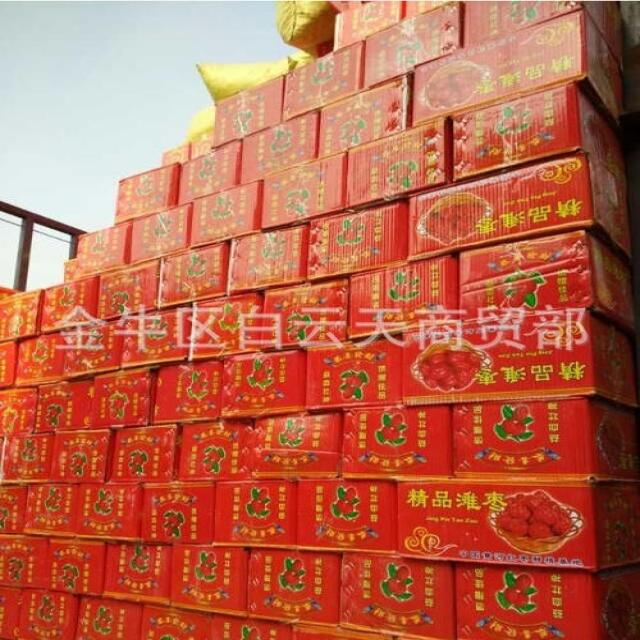box: (406, 153, 632, 264), (413, 9, 625, 127), (401, 310, 639, 413), (397, 477, 640, 569), (460, 230, 636, 339), (451, 83, 627, 183), (453, 397, 640, 483), (454, 562, 640, 640), (465, 1, 626, 70), (339, 551, 454, 640), (346, 118, 452, 212), (347, 257, 460, 342), (360, 1, 461, 92), (306, 200, 408, 285), (339, 405, 453, 481), (317, 72, 415, 159), (297, 477, 398, 555), (244, 548, 342, 627), (306, 336, 403, 415), (282, 39, 366, 122), (262, 151, 347, 231), (259, 278, 349, 352), (248, 411, 342, 479), (228, 223, 308, 298), (170, 545, 251, 619), (214, 479, 298, 550), (241, 110, 320, 185), (220, 351, 306, 418), (211, 75, 284, 150), (189, 292, 264, 363), (157, 242, 230, 310), (119, 305, 192, 370), (151, 360, 224, 425), (191, 181, 262, 247), (141, 481, 215, 544), (178, 420, 253, 482), (102, 542, 173, 607), (108, 424, 183, 482), (90, 367, 157, 429), (76, 483, 145, 543), (63, 318, 127, 382), (178, 139, 241, 204), (97, 258, 160, 323), (114, 163, 180, 225), (131, 204, 193, 265), (46, 537, 108, 597), (40, 275, 100, 335), (51, 429, 114, 483), (17, 589, 83, 640), (73, 222, 133, 278), (32, 381, 92, 435), (23, 483, 79, 538), (74, 596, 143, 640), (0, 433, 54, 485), (14, 332, 65, 387), (0, 534, 50, 590), (141, 605, 212, 640), (0, 289, 44, 342), (211, 616, 293, 640), (0, 387, 38, 437), (293, 624, 394, 640), (0, 484, 29, 534), (0, 588, 23, 640), (406, 0, 460, 18), (0, 340, 19, 390), (189, 132, 214, 162), (161, 142, 189, 166), (61, 260, 76, 283)
